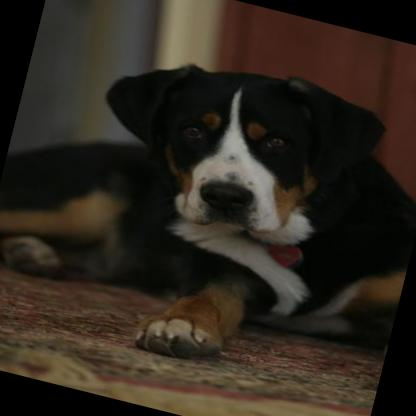Greater_Swiss_Mountain_dog: (0, 11, 416, 403)
